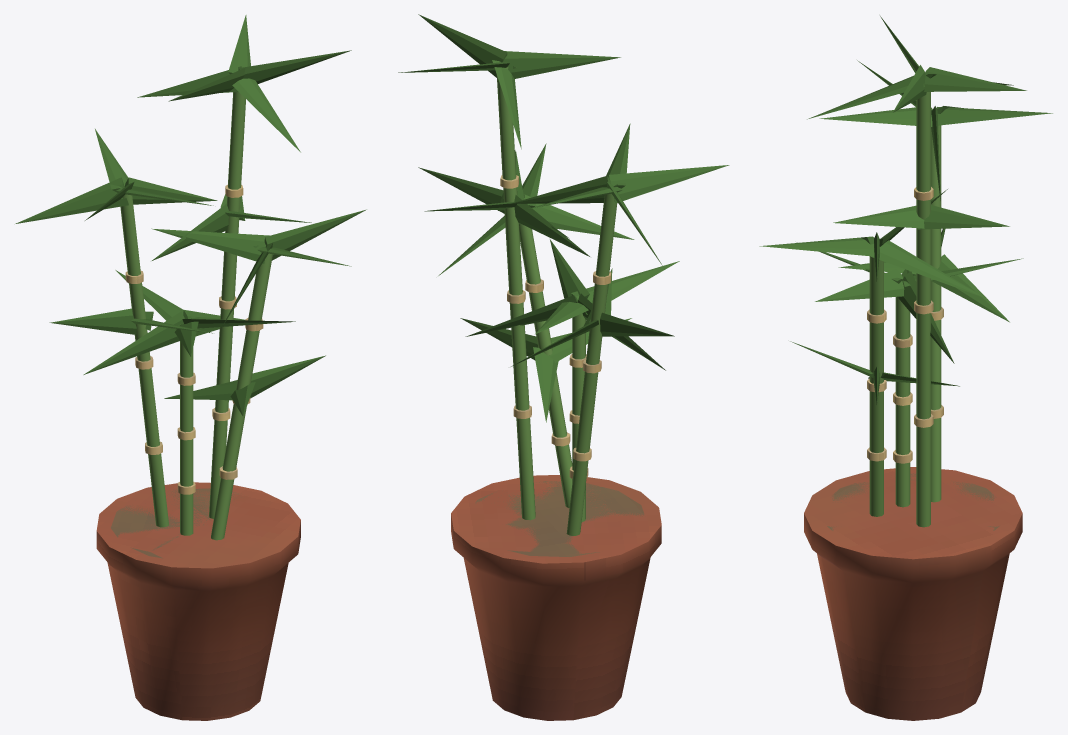
The model's file is plant_bamboo_pot.glb.
3 views of the same model, side by side, from view 1: azimuth 30°, elevation 25°; view 2: azimuth 150°, elevation 25°; view 3: azimuth 270°, elevation 25° (orthographic). The views are drawn at different scales.
Visible parts, largest first — view 1: plant_bamboo_pot; view 2: plant_bamboo_pot; view 3: plant_bamboo_pot.
Boxes of the visible parts, bbox=[...] form: plant_bamboo_pot: bbox=[15, 15, 366, 720]; plant_bamboo_pot: bbox=[398, 14, 729, 720]; plant_bamboo_pot: bbox=[759, 16, 1052, 720].
Size of the model in its own units: 0.6979 by 1.39 by 0.5652.
5 materials, 3 textured.
